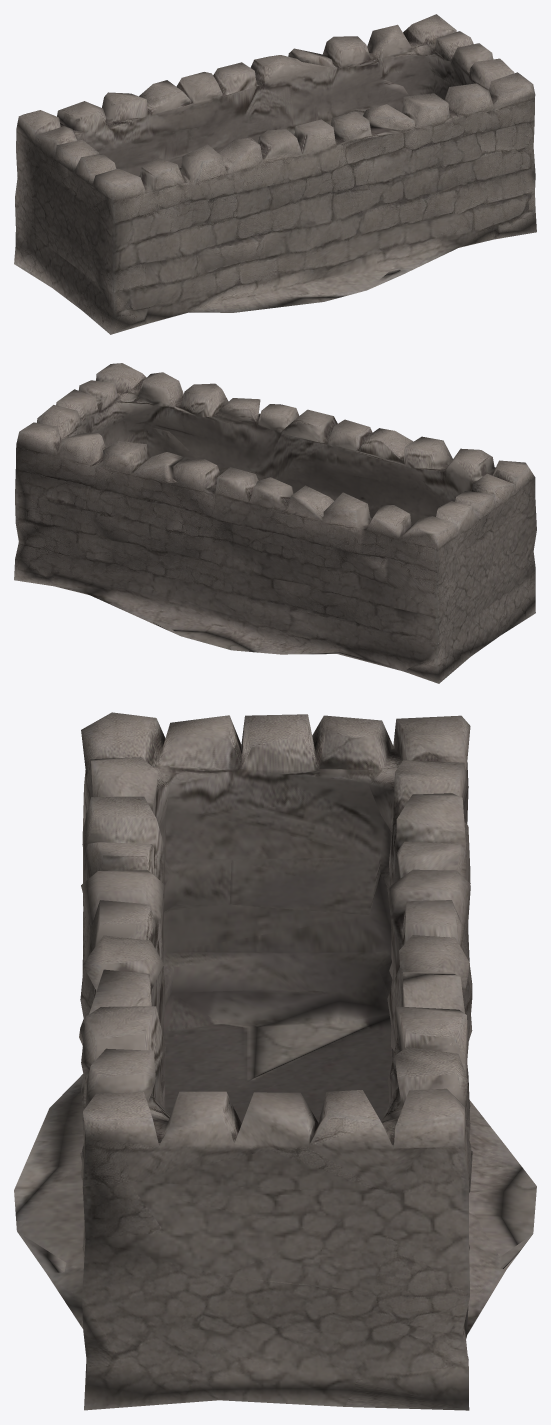
Rendered from prp_lm_wall_rampart.glb.
3 views of the same model, one above another, from view 1: azimuth 30°, elevation 25°; view 2: azimuth 150°, elevation 25°; view 3: azimuth 270°, elevation 25° (orthographic). The views are drawn at different scales.
Parts seen in each view (by area): view 1: prp_lm_wall_rampart; view 2: prp_lm_wall_rampart; view 3: prp_lm_wall_rampart.
Boxes of the visible parts, bbox=[...] form: prp_lm_wall_rampart: bbox=[14, 14, 536, 334]; prp_lm_wall_rampart: bbox=[14, 363, 536, 683]; prp_lm_wall_rampart: bbox=[14, 712, 536, 1410].
Size of the model in its own units: 14.74 by 5 by 8.01.
Materials: 1 (1 with a texture image).
